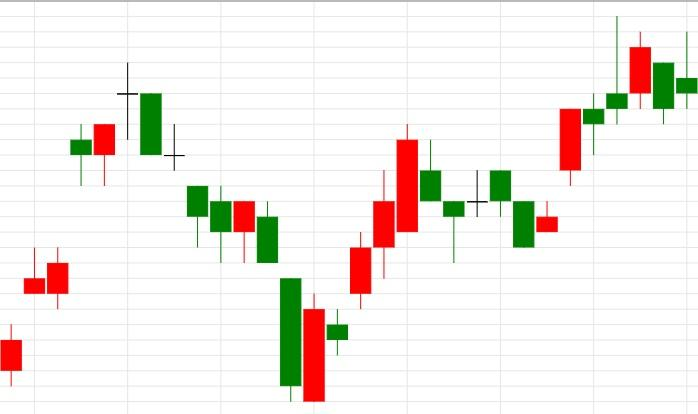evening_star_fall: (0, 62, 163, 386)
hammer_rise: (396, 123, 465, 264)
